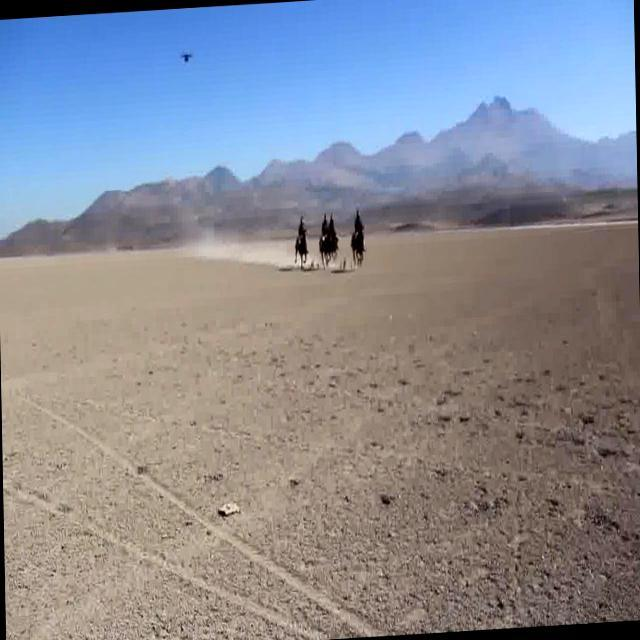drone: (177, 40, 195, 70)
